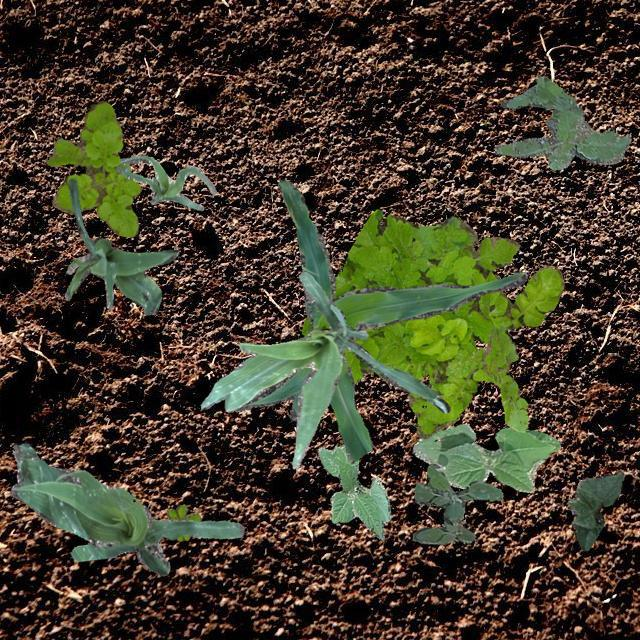crop: (234, 178, 526, 462), (200, 270, 448, 468), (11, 442, 242, 574), (64, 178, 178, 314), (412, 424, 560, 492), (316, 444, 391, 538), (116, 153, 216, 210), (566, 470, 622, 550)
weed: (300, 208, 562, 438), (494, 74, 630, 170), (46, 100, 140, 236), (412, 462, 502, 544), (468, 324, 528, 432), (166, 502, 200, 540)
